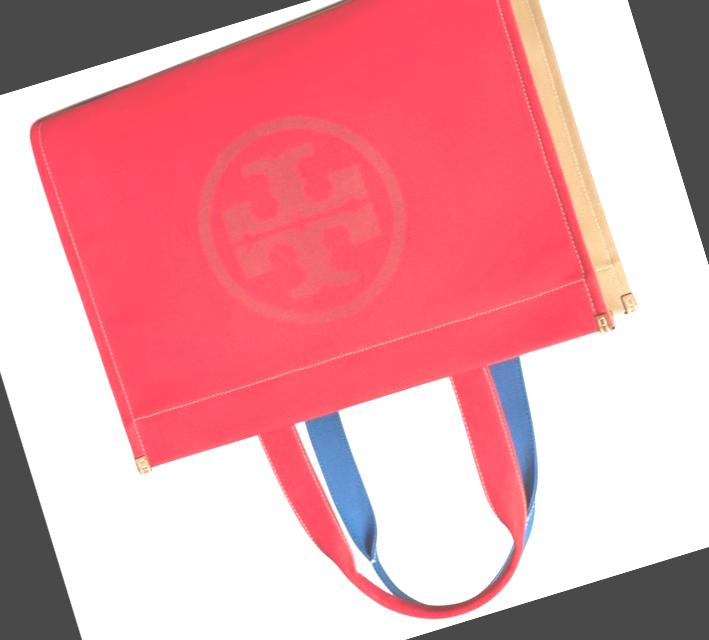TORY-BURCH: (172, 88, 431, 350)
